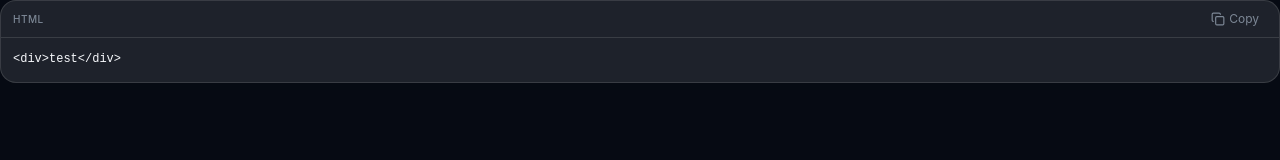
buttons › code-block › Copy code — writes to clipboard and shows Copied
The image size is (1280, 160).
Click the button with aria-label "Copy code": (1235, 19) [1203,7,1267,31]
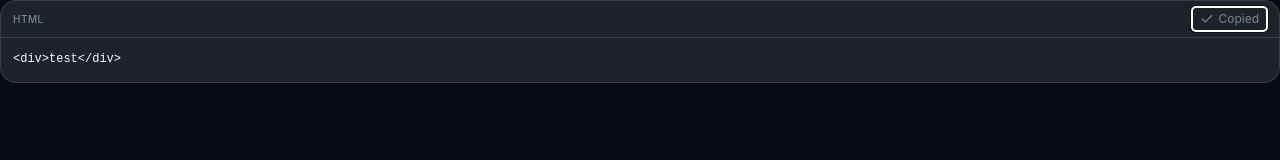
Expected: the button "Copied" is shown, [1192,7,1267,31]
